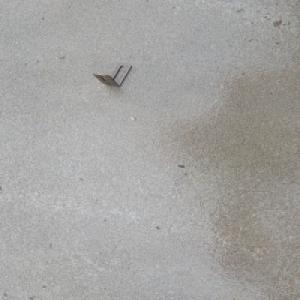MetalPart: (91, 62, 133, 87)
